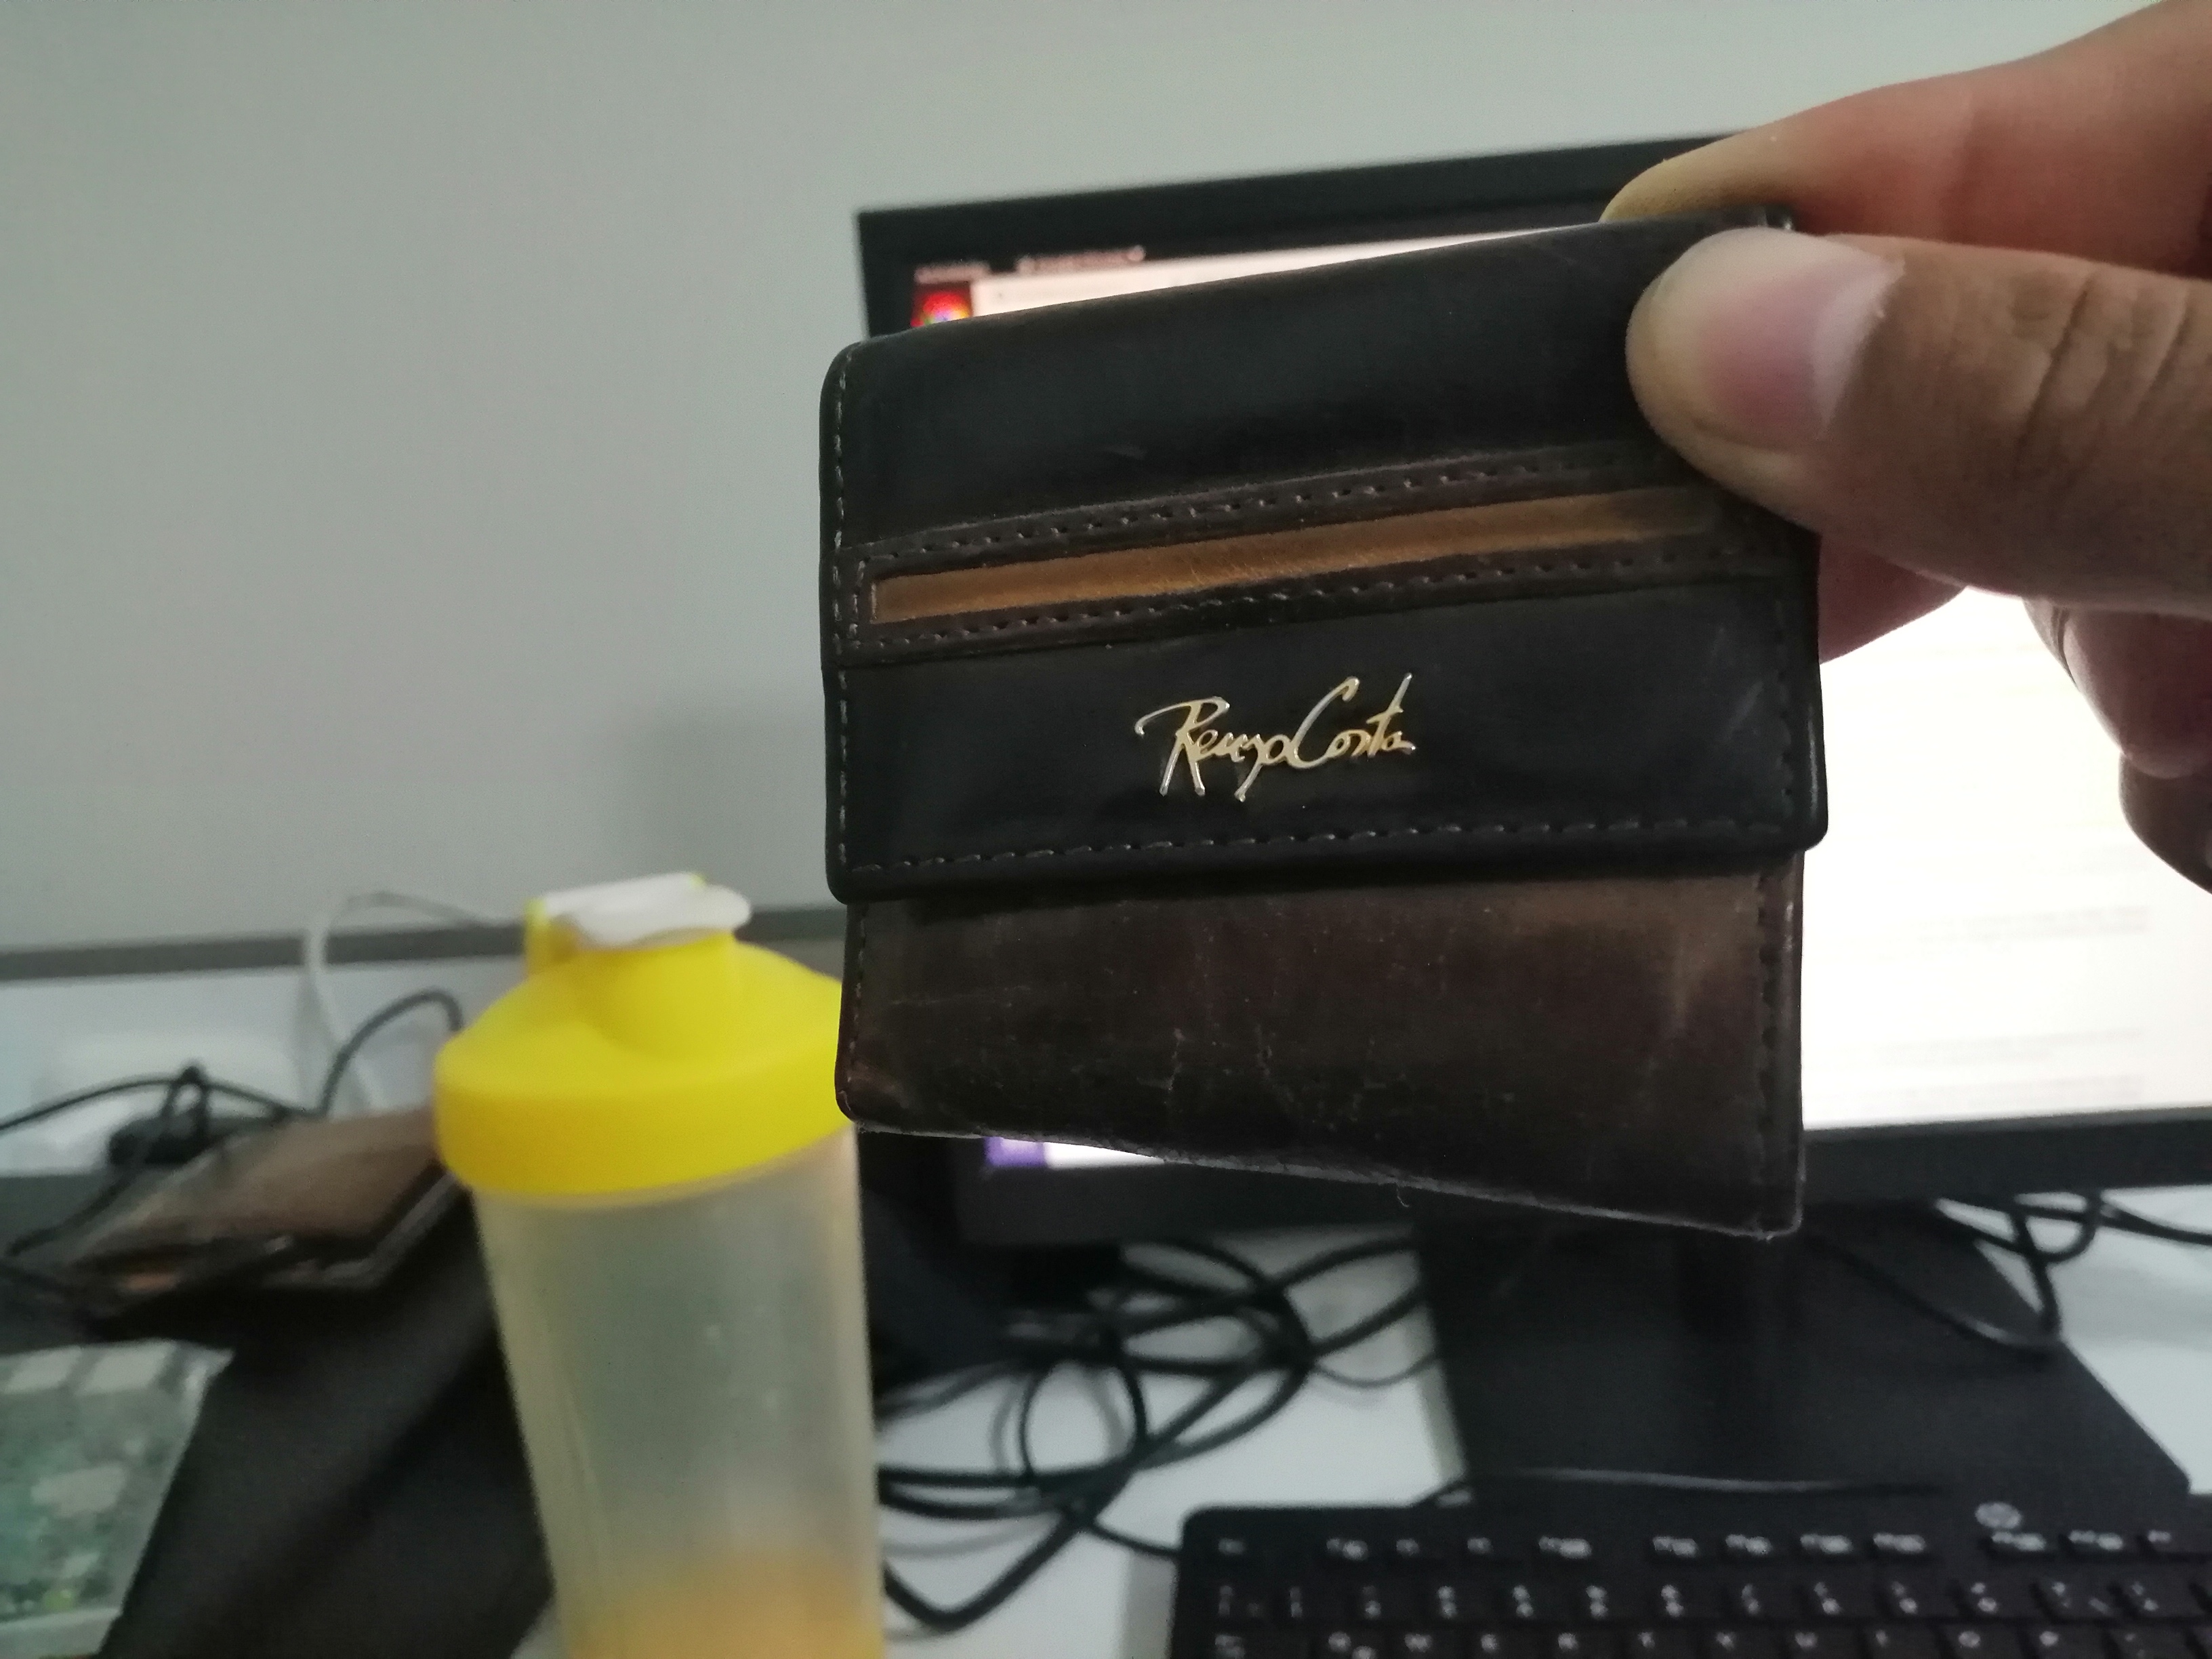monedero: (798, 190, 1839, 1269)
